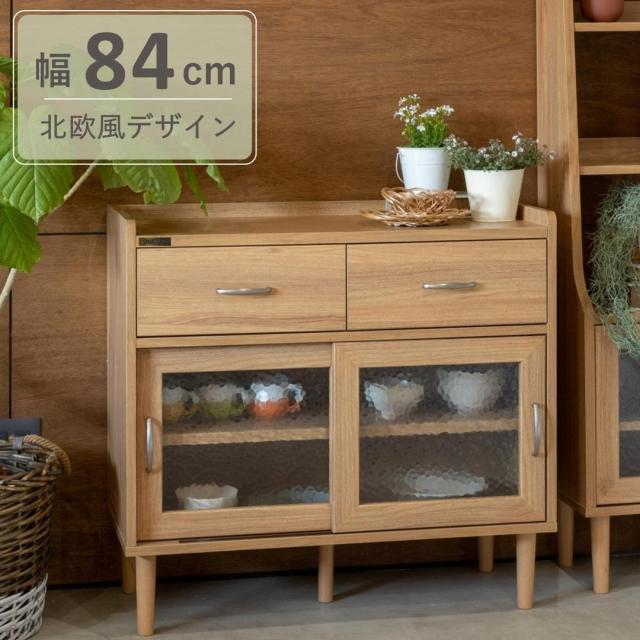natural shelf: (99, 196, 546, 625)
